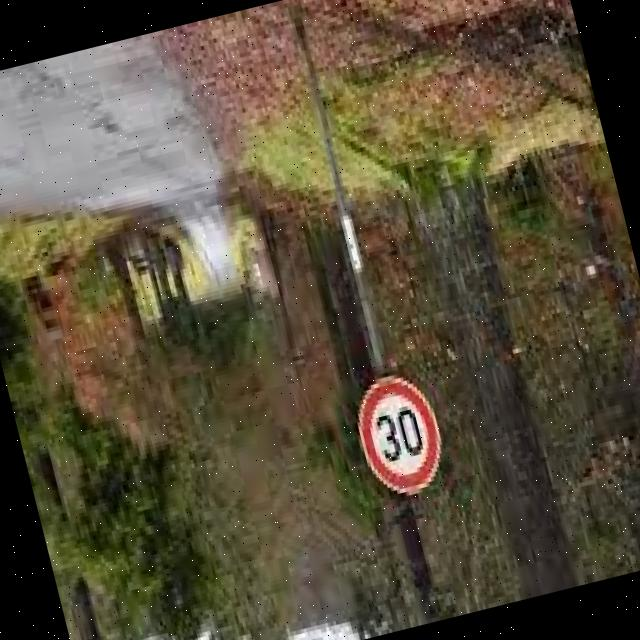speed_limit_30: (342, 354, 464, 508)
